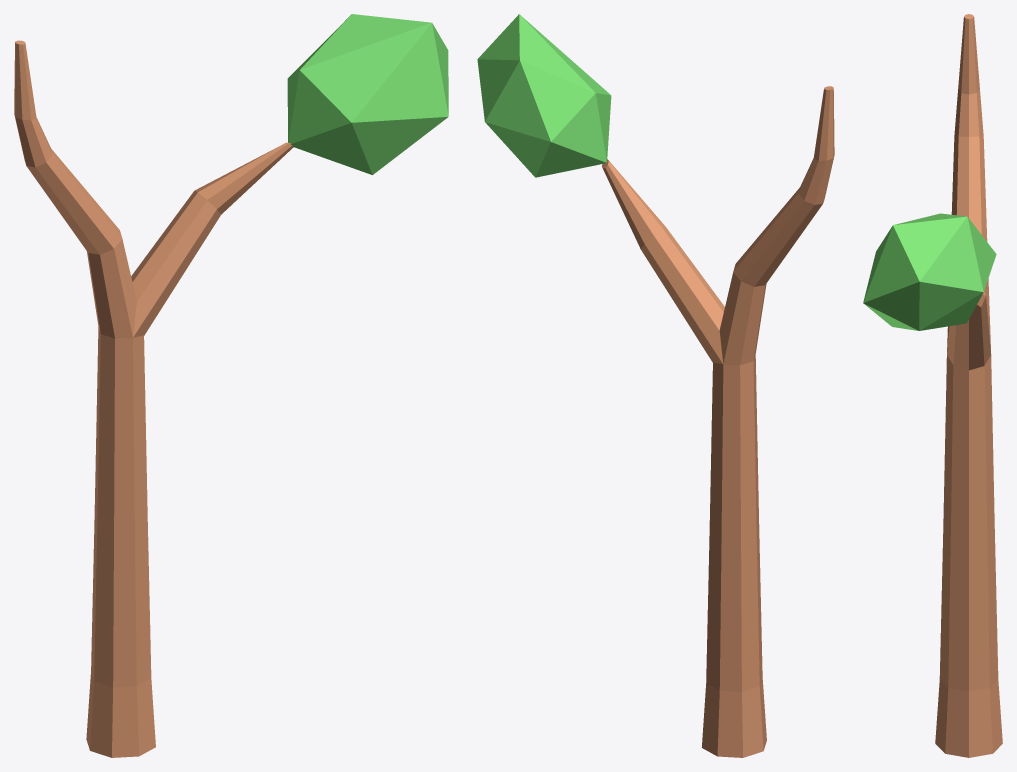
Rendered from Tree_4.fbx.
The picture shows the model from 3 angles, left to right: view 1: azimuth 30°, elevation 25°; view 2: azimuth 150°, elevation 25°; view 3: azimuth 270°, elevation 25°; orthographic projection. The views are drawn at different scales.
Visible parts, largest first — view 1: Tree_4; view 2: Tree_4; view 3: Tree_4.
Boxes of the visible parts, left/top/right/bottom form: Tree_4: left=14, top=14, right=448, bottom=757; Tree_4: left=477, top=14, right=834, bottom=757; Tree_4: left=863, top=14, right=1002, bottom=757.
Size of the model in its own units: 1303 by 2222 by 413.
